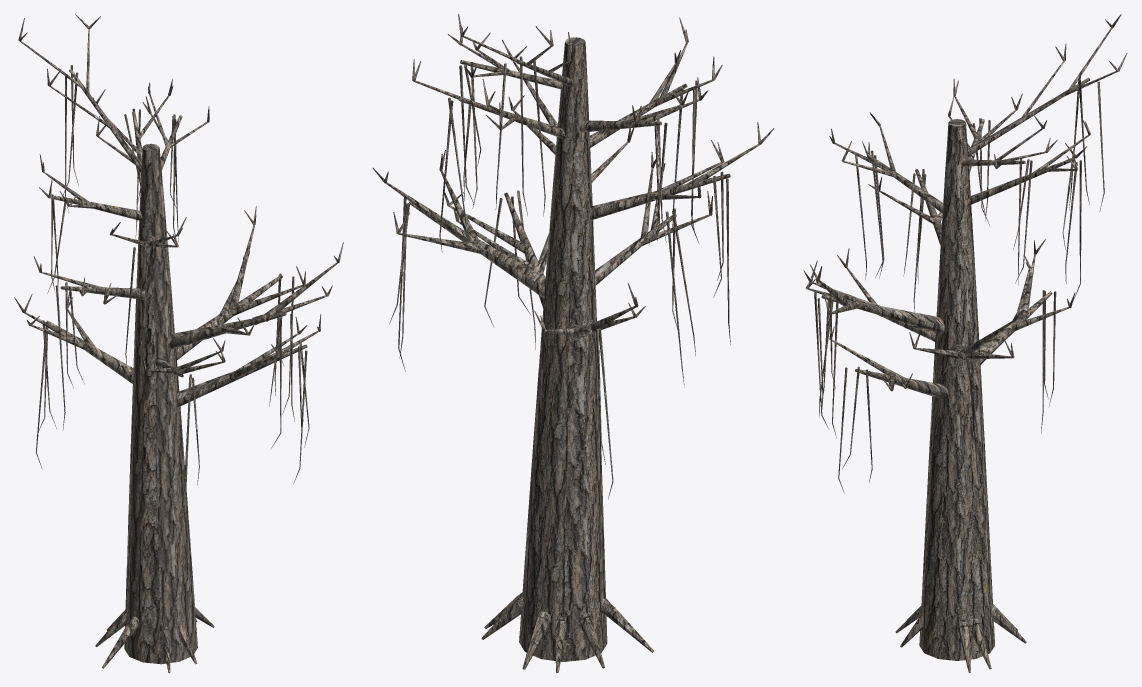
The model's file is weeping-willow-v02.glb.
3 renders of one model, left to right at view 1: azimuth 30°, elevation 25°; view 2: azimuth 150°, elevation 25°; view 3: azimuth 270°, elevation 25°, orthographic. The views are drawn at different scales.
Visible parts, largest first — view 1: dead-tree-willow; view 2: dead-tree-willow; view 3: dead-tree-willow.
Part boxes in pixels (x1=…): dead-tree-willow: x1=14, y1=14, x2=343, y2=672; dead-tree-willow: x1=372, y1=14, x2=774, y2=672; dead-tree-willow: x1=803, y1=14, x2=1127, y2=672.
Size of the model in its own units: 4.72 by 10.02 by 4.88.
Materials: 1 (1 with a texture image).
